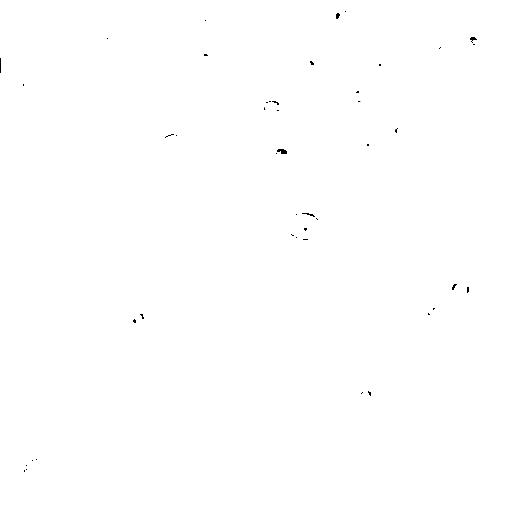micro-algae: (256, 173, 307, 222), (350, 91, 397, 138), (33, 61, 78, 106), (2, 322, 32, 383), (182, 406, 222, 448), (209, 34, 246, 70), (182, 10, 219, 45), (285, 208, 323, 240), (235, 190, 267, 222), (260, 58, 290, 91), (23, 455, 54, 485), (158, 423, 189, 452), (52, 425, 83, 452), (157, 253, 183, 281), (392, 23, 421, 43), (348, 82, 371, 107), (115, 169, 139, 192), (279, 30, 305, 51), (179, 259, 204, 280), (199, 174, 220, 197), (449, 277, 472, 298), (10, 332, 33, 353), (94, 36, 118, 56), (271, 145, 291, 169), (162, 131, 183, 153), (409, 386, 433, 405), (195, 16, 220, 34), (195, 52, 216, 73), (226, 221, 247, 242), (59, 356, 80, 377), (332, 5, 354, 25), (463, 31, 485, 51), (127, 60, 150, 78), (5, 251, 28, 269), (496, 80, 512, 104), (293, 113, 313, 132), (326, 51, 344, 72), (454, 191, 475, 209), (412, 81, 429, 103), (255, 145, 278, 161), (115, 248, 133, 268), (175, 337, 195, 355), (160, 22, 183, 37), (234, 0, 253, 18), (434, 44, 452, 63), (252, 332, 270, 351), (165, 162, 185, 179), (215, 381, 232, 401), (421, 305, 439, 323), (240, 63, 261, 78), (8, 72, 24, 91), (129, 310, 148, 326), (371, 48, 386, 68), (328, 165, 346, 181), (262, 99, 282, 113), (307, 49, 324, 65), (14, 311, 32, 326), (392, 122, 407, 139), (349, 366, 367, 380), (246, 39, 266, 51), (24, 47, 41, 61), (238, 443, 251, 461), (320, 134, 335, 149), (363, 140, 378, 154), (2, 110, 16, 124), (359, 388, 374, 401), (389, 504, 408, 512)
